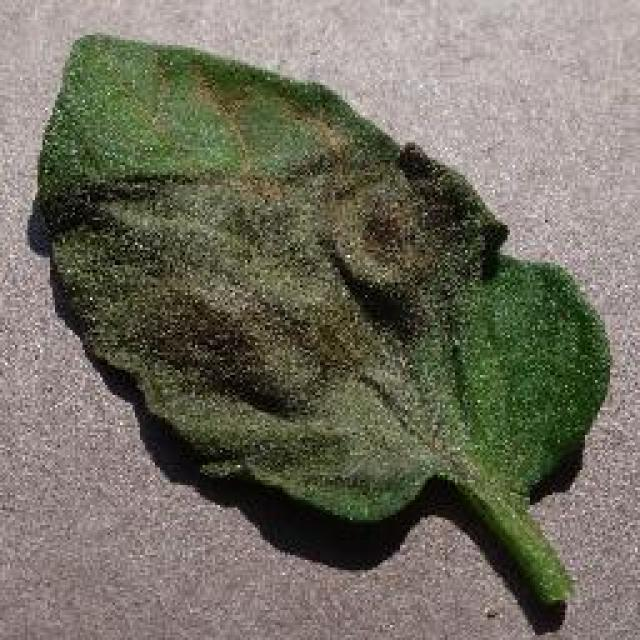Tomato___Late_blight: (40, 35, 619, 635)
